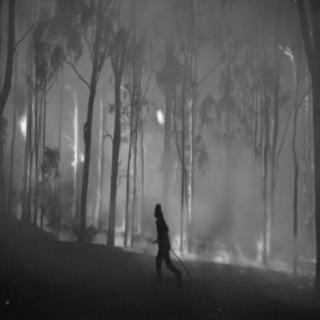Fire: (60, 74, 107, 232)
